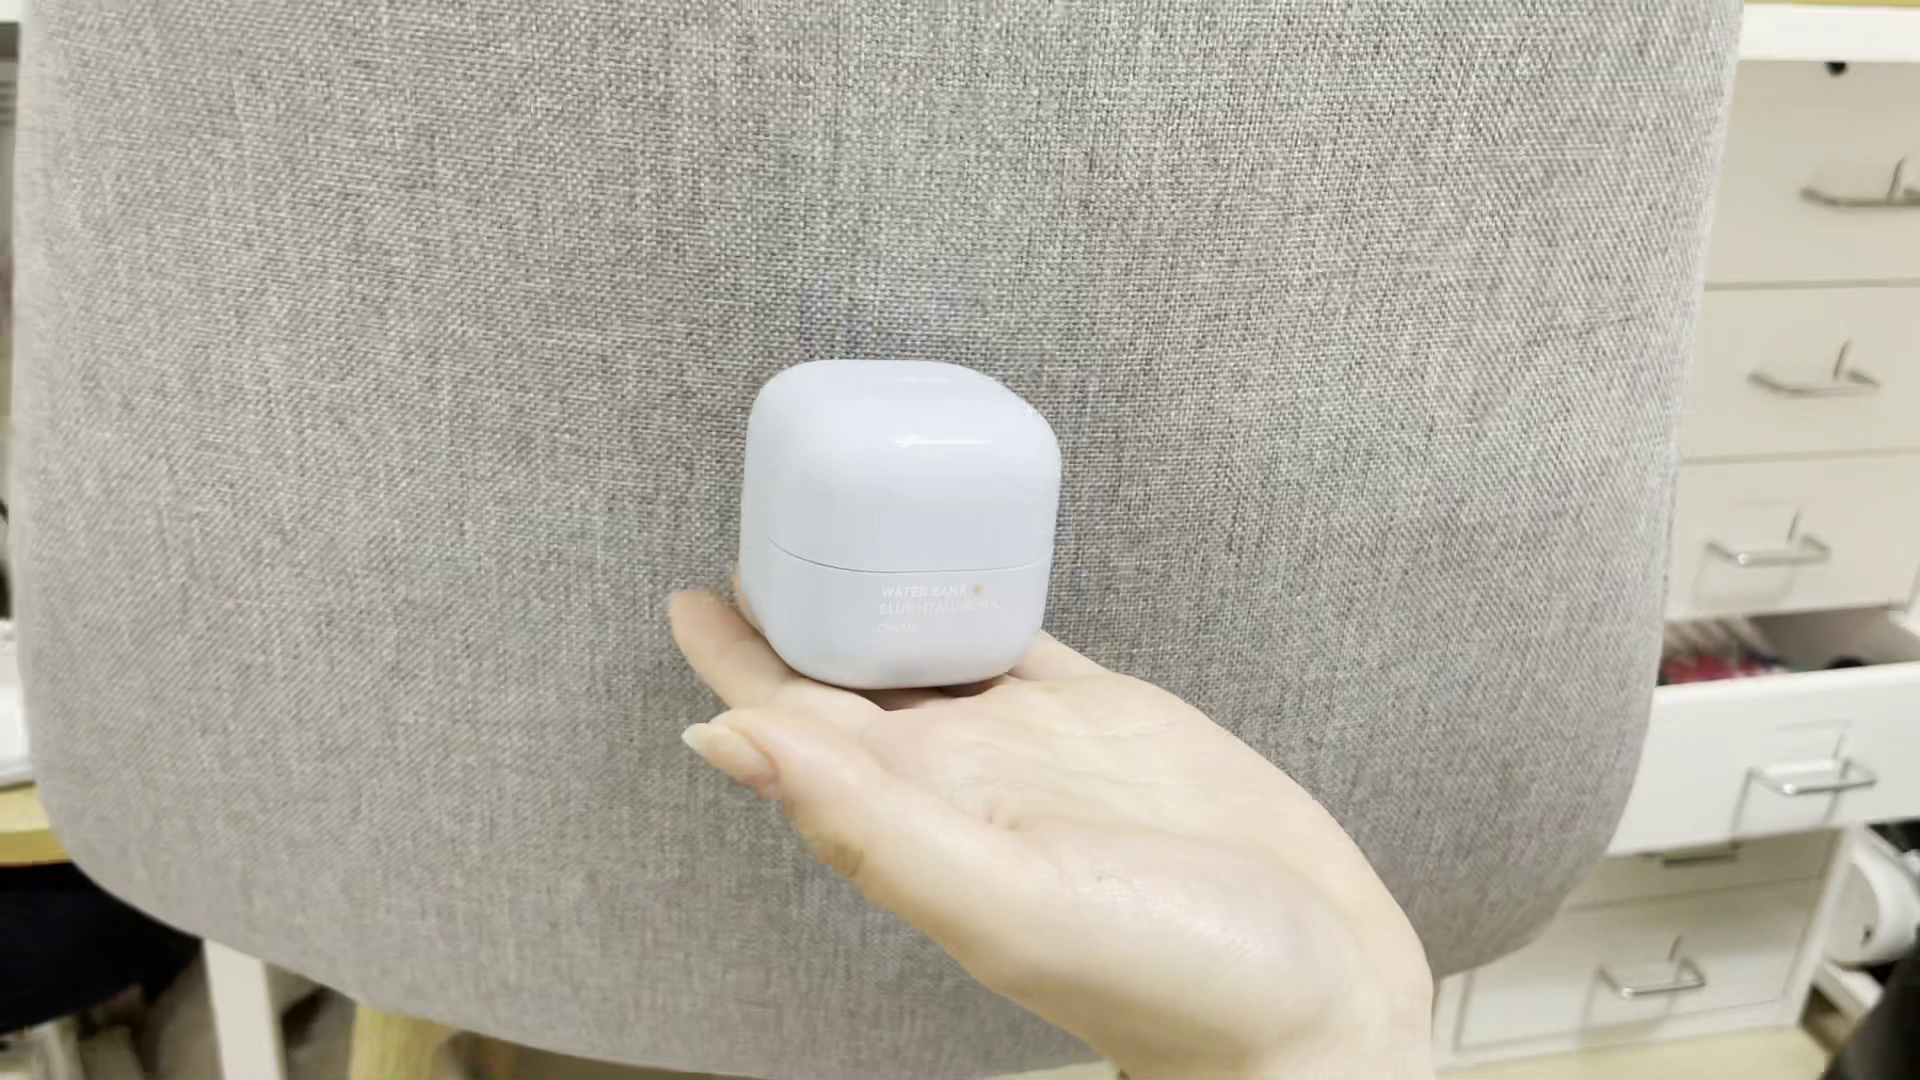cream: (735, 352, 1056, 688)
